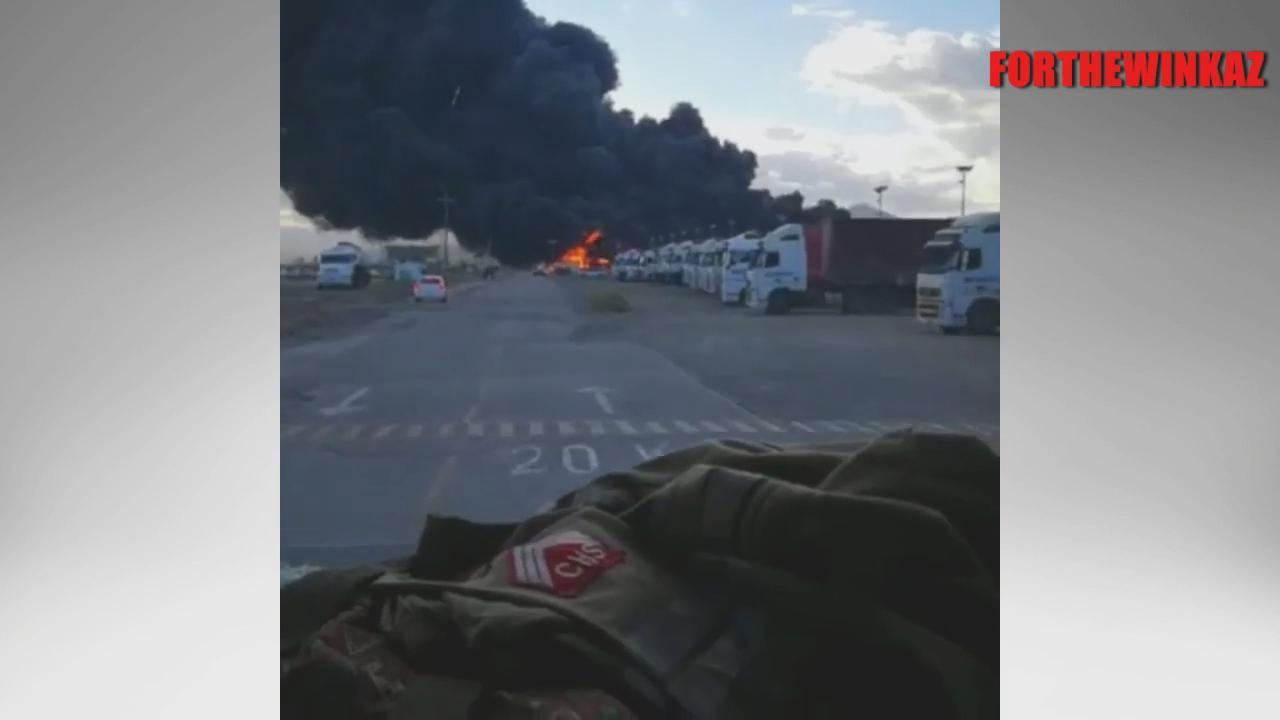fire: (556, 237, 607, 273)
